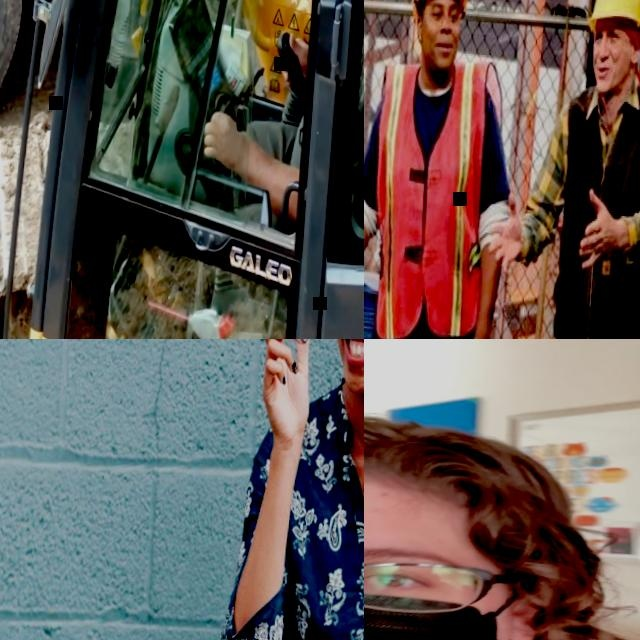Hardhat: (586, 0, 640, 36)
NO-Hardhat: (364, 397, 561, 547)
NO-Mask: (331, 339, 364, 398), (421, 34, 458, 75), (594, 59, 630, 94)
NO-Safety Vest: (257, 383, 364, 640), (543, 78, 640, 339)
Person: (364, 393, 640, 640), (463, 0, 640, 339), (364, 0, 532, 339), (191, 0, 364, 274), (207, 339, 364, 640)
Safety Vest: (364, 51, 505, 333)
machinery: (0, 0, 364, 339), (0, 0, 333, 167)
